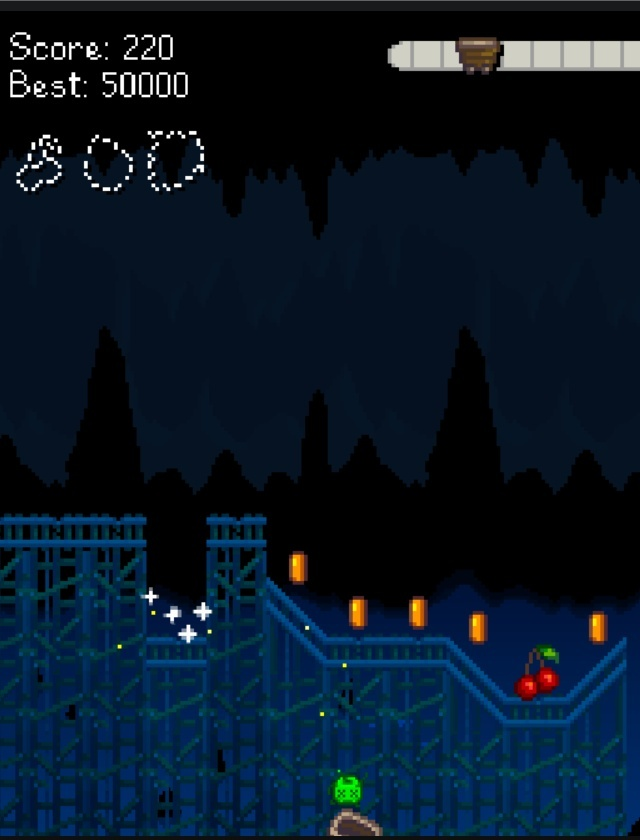cherry: (501, 628, 563, 708)
coins: (289, 551, 307, 584), (469, 611, 487, 644), (589, 611, 607, 643), (349, 596, 366, 628), (410, 597, 426, 628)
minecart: (327, 808, 383, 836)
tracks: (266, 581, 626, 731), (0, 508, 154, 551), (143, 629, 219, 678), (200, 509, 271, 556)
